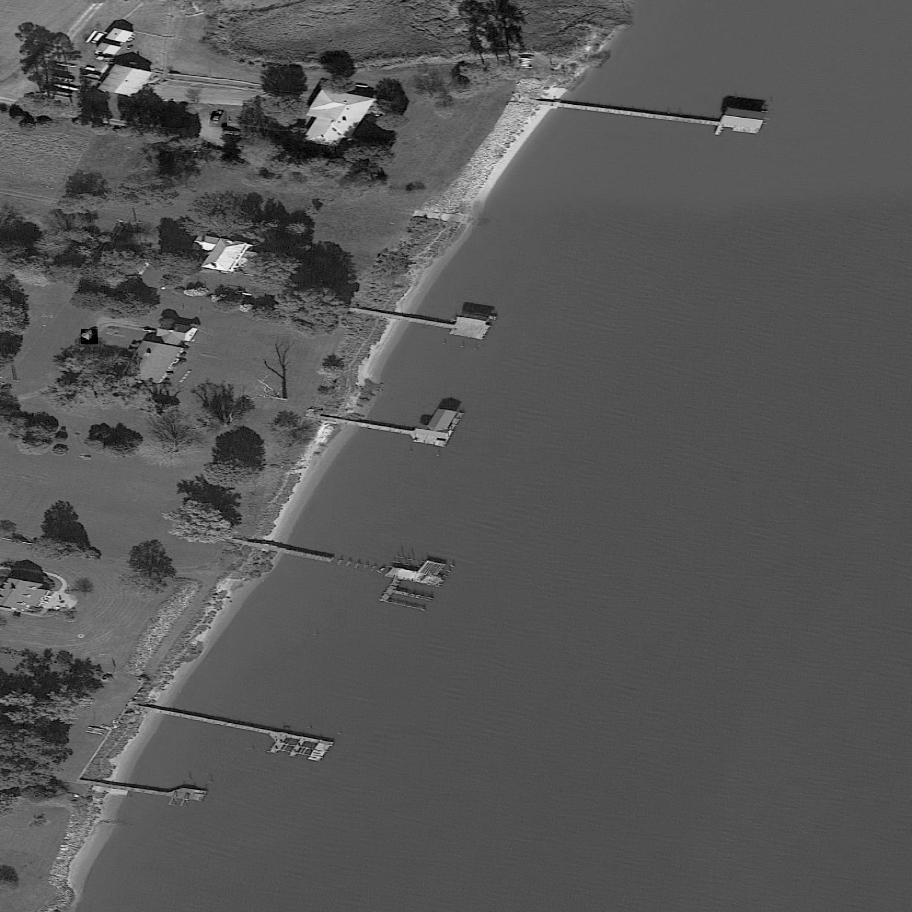ship: (82, 327, 100, 348)
small-vehicle: (210, 109, 228, 131)
